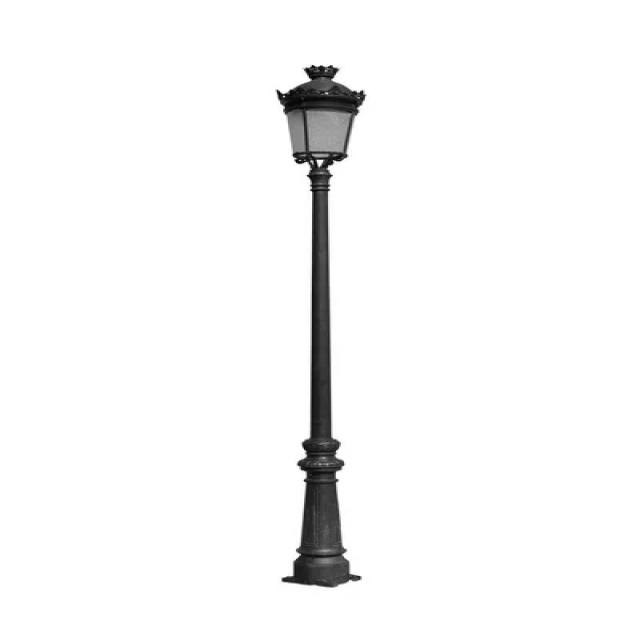Pole: (278, 65, 365, 588)
